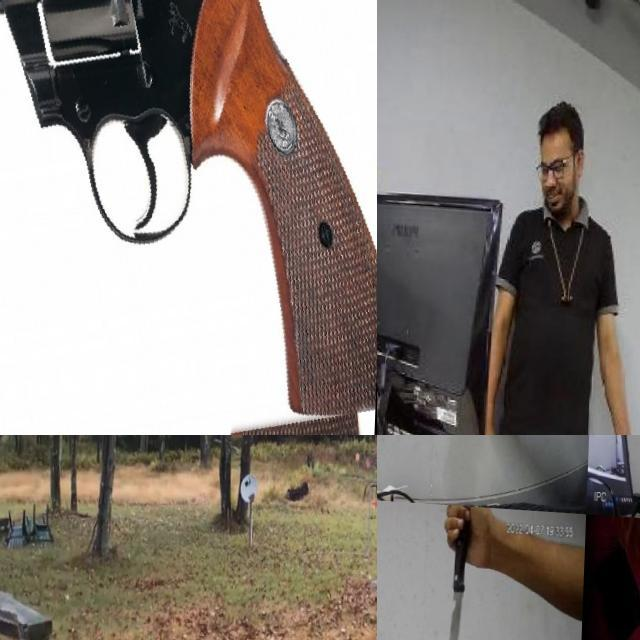-: (434, 502, 480, 640), (431, 435, 494, 512)
gun-knife-thesis - v11 Yolov5 augmented: (0, 0, 377, 435), (0, 562, 34, 640)
